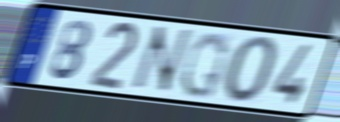2: (87, 20, 139, 92)
4: (269, 42, 315, 108)
8: (50, 18, 93, 82)
N: (126, 24, 196, 96)
O: (221, 34, 281, 107)
Q: (177, 29, 232, 101)
